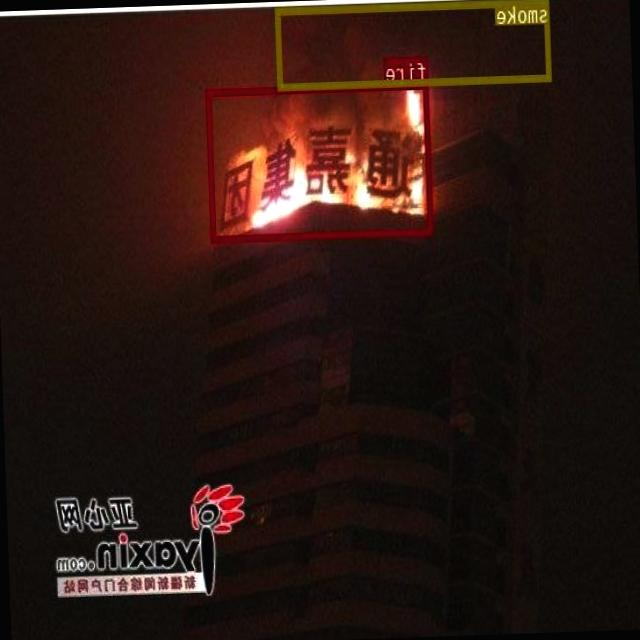fire: (206, 80, 434, 241)
smoke: (275, 0, 552, 89)
